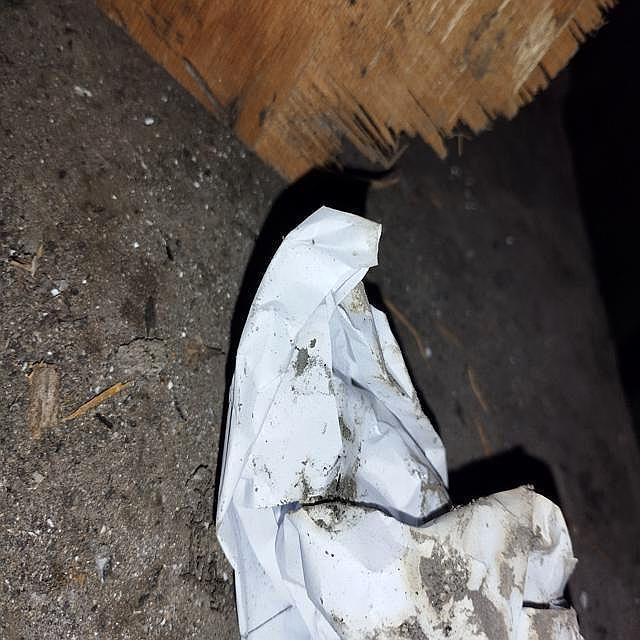Biodegradable: (215, 209, 581, 640)
